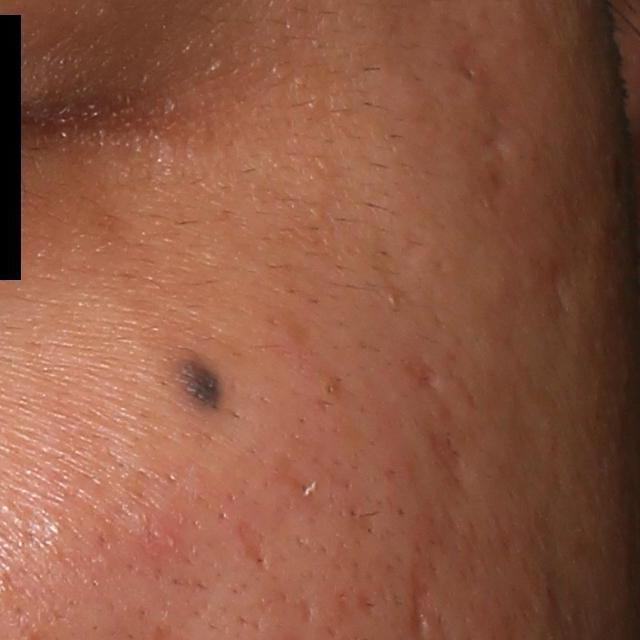atrophic_scar: (456, 44, 516, 226), (405, 568, 434, 636), (230, 515, 264, 565)
nevus: (171, 356, 217, 409)
